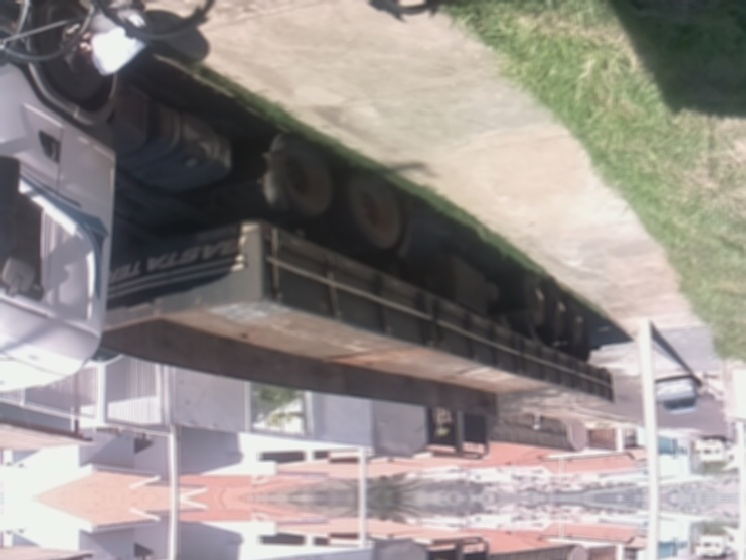person: (69, 0, 154, 77)
